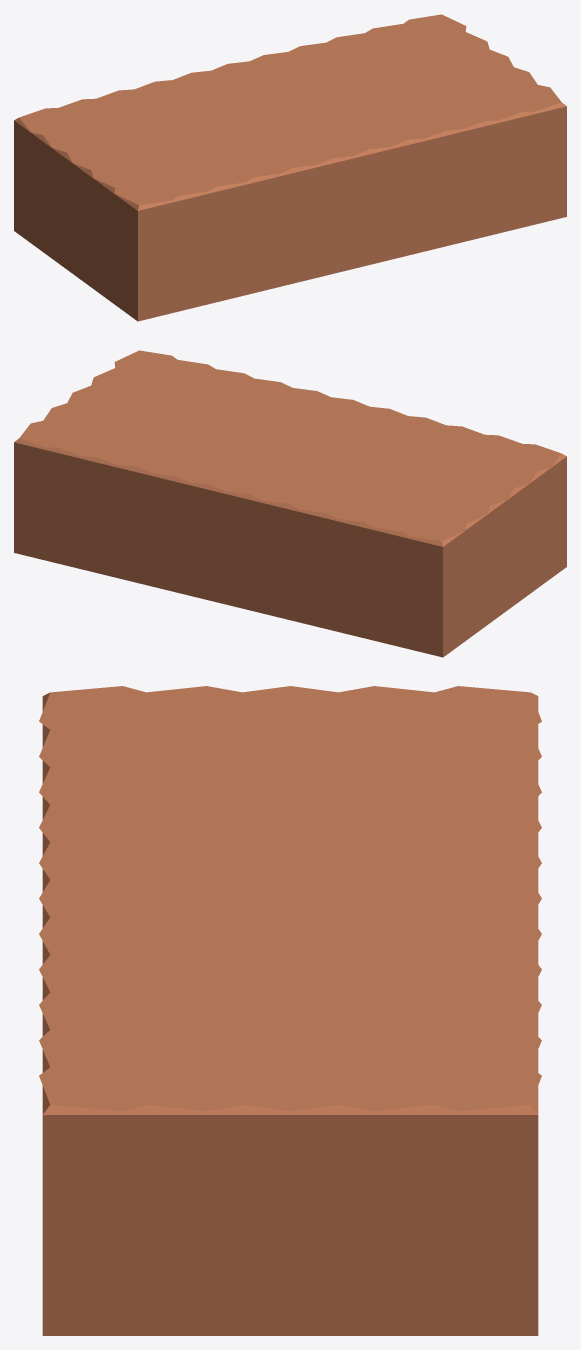
The model's file is mahsulot.glb.
3 views of the same model, one above another, from view 1: azimuth 30°, elevation 25°; view 2: azimuth 150°, elevation 25°; view 3: azimuth 270°, elevation 25° (orthographic). The views are drawn at different scales.
Visible parts, largest first — view 1: mahsulot_A; view 2: mahsulot_A; view 3: mahsulot_A.
Part boxes in pixels (bbox=[...]): mahsulot_A: bbox=[14, 14, 566, 321]; mahsulot_A: bbox=[14, 350, 566, 657]; mahsulot_A: bbox=[39, 686, 541, 1335].
Bounding box in the file's own units: 0.2 × 0.05 × 0.1.
